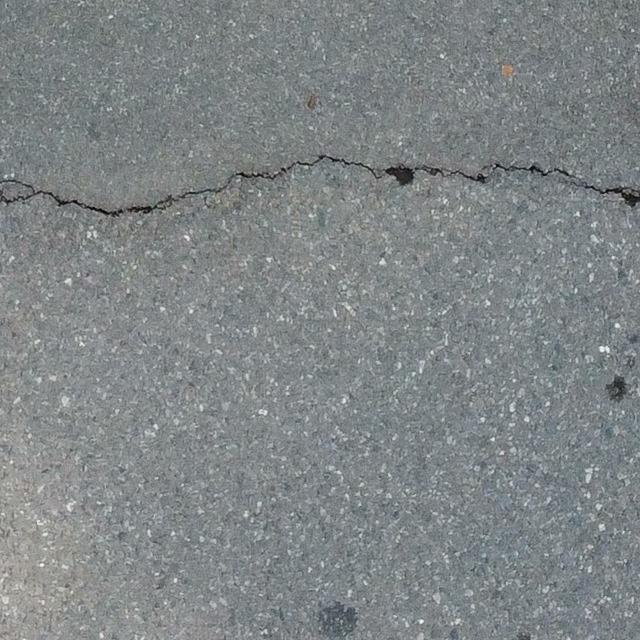TransverseCrack: (1, 153, 640, 217)
